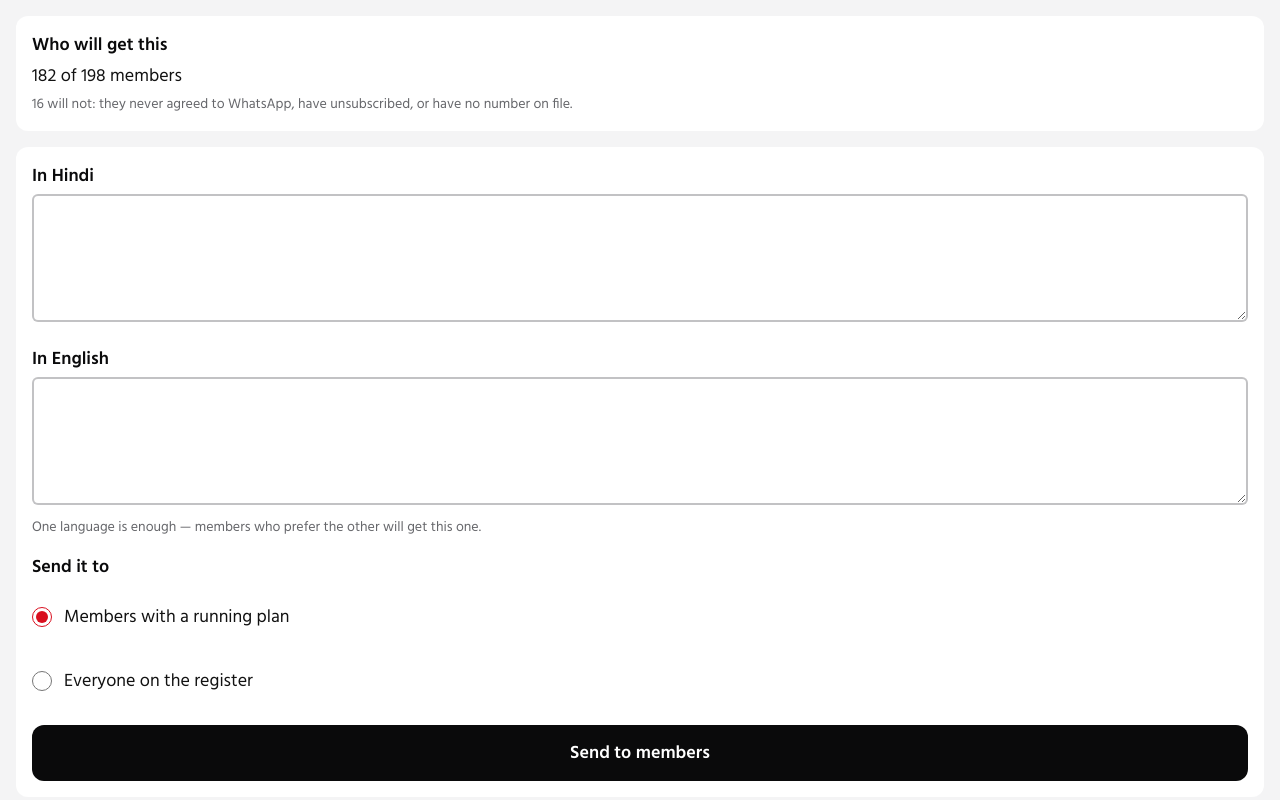
Test: AnnouncementComposer › asks to confirm, then sends what was written and reports who got it
Type "कल दिवाली के कारण जिम बंद रहेगा।" into the text box labelled "In Hindi".
click(640, 258); type("कल दिवाली के कारण जिम बंद रहेगा।")  # box [32,194,1248,322]
(page scrolled)
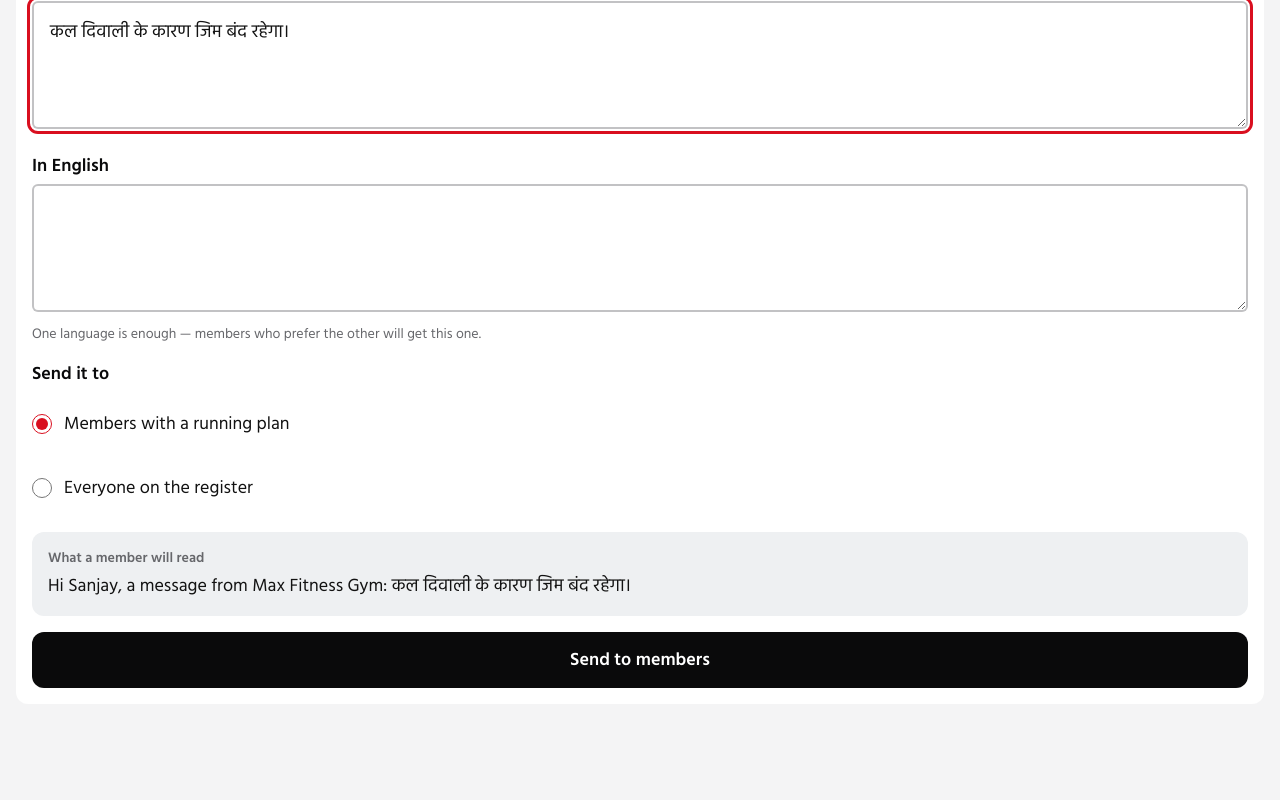
Click the button "Send to members".
click(640, 660)  # box [32,632,1248,688]
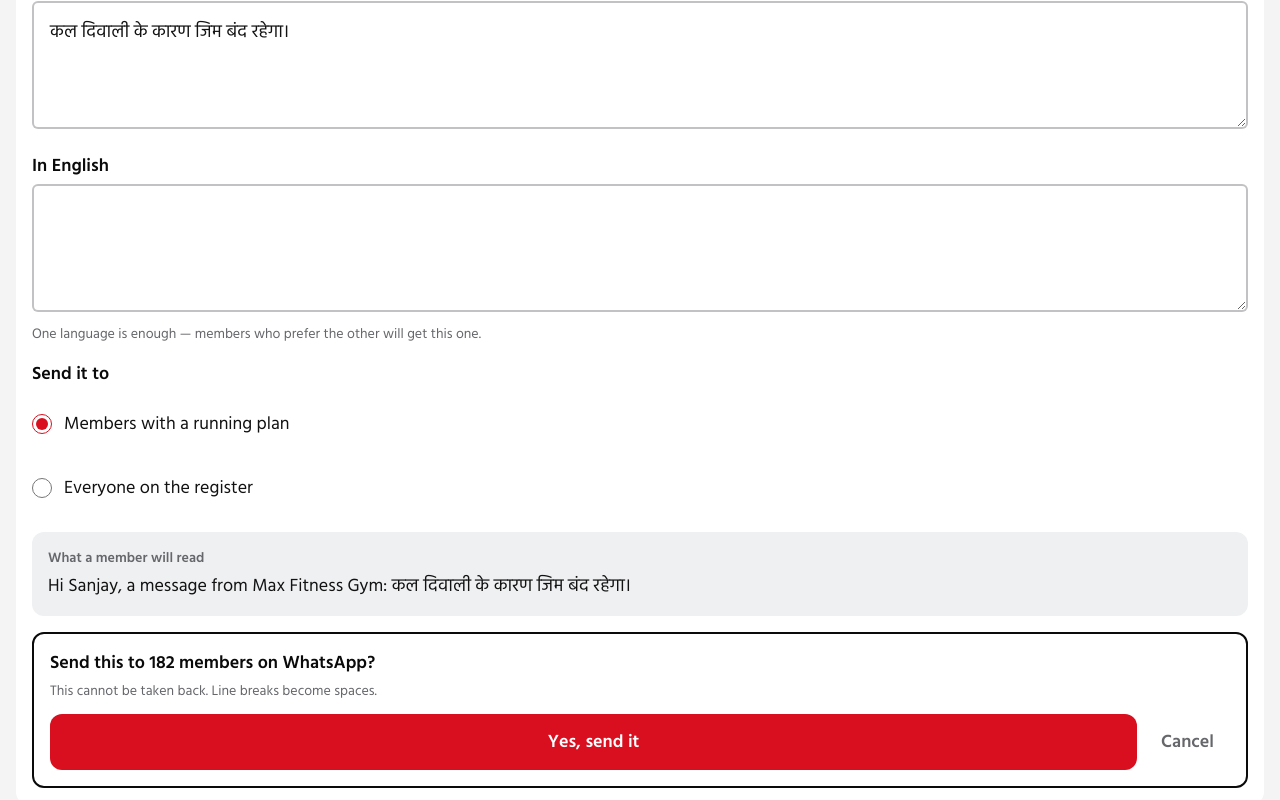
Click the button "Yes, send it".
click(594, 742)  # box [50,714,1137,770]
(page scrolled)
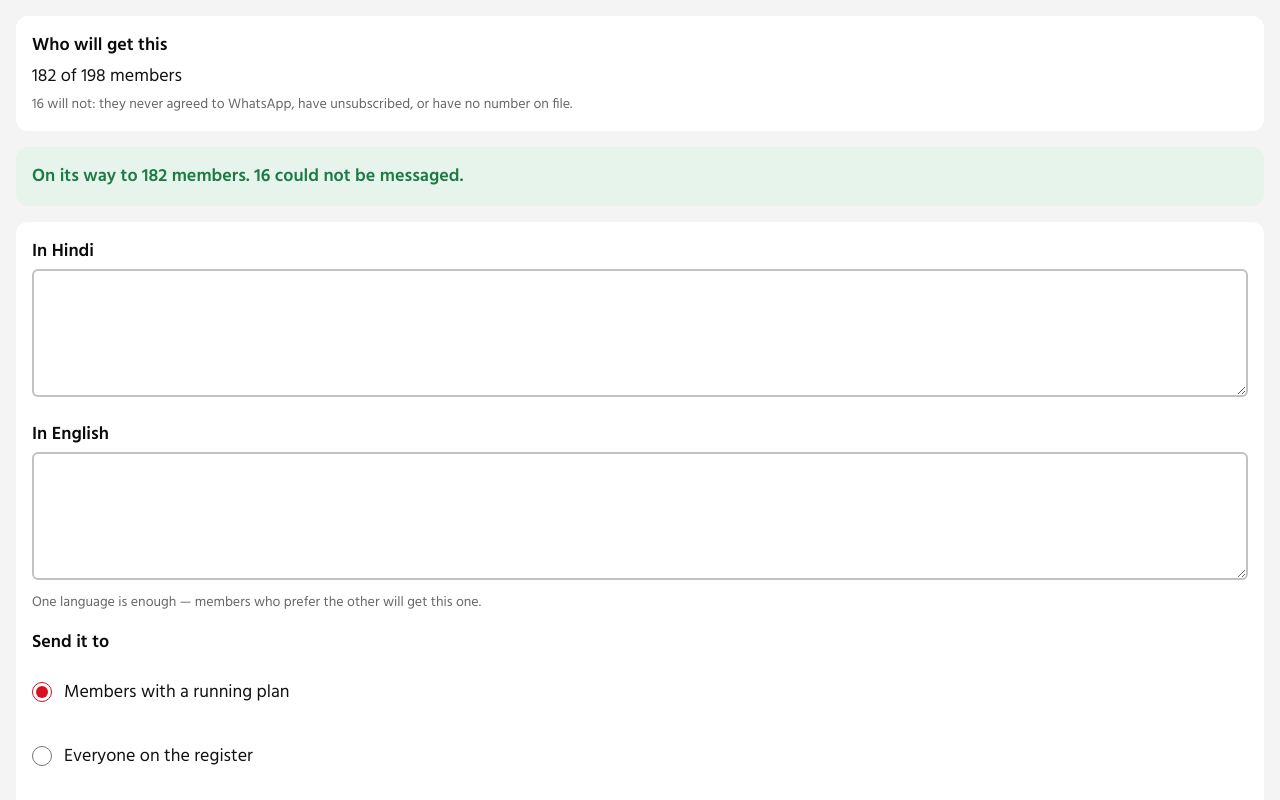
expect the message shows "182": met, box [32,162,250,191]
expect the message shows "16": met, box [250,162,463,191]
